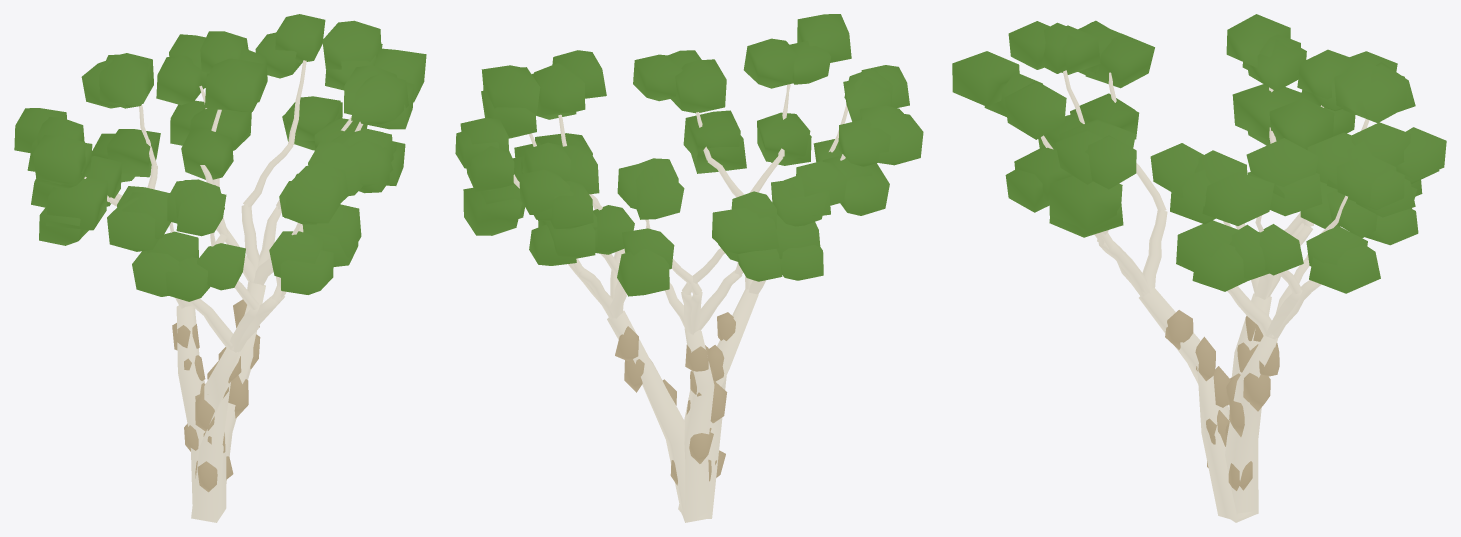
Rendered from Blender_Sycamore_1_Far.glb.
The picture shows the model from 3 angles, left to right: view 1: azimuth 30°, elevation 25°; view 2: azimuth 150°, elevation 25°; view 3: azimuth 270°, elevation 25°; orthographic projection. The views are drawn at different scales.
Visible parts, largest first — view 1: Blender_Sycamore_1_Far; view 2: Blender_Sycamore_1_Far; view 3: Blender_Sycamore_1_Far.
Boxes of the visible parts, left/top/right/bottom form: Blender_Sycamore_1_Far: left=14, top=14, right=426, bottom=522; Blender_Sycamore_1_Far: left=455, top=14, right=923, bottom=522; Blender_Sycamore_1_Far: left=952, top=14, right=1446, bottom=522.
Size of the model in its own units: 17.57 by 18.99 by 18.48.
